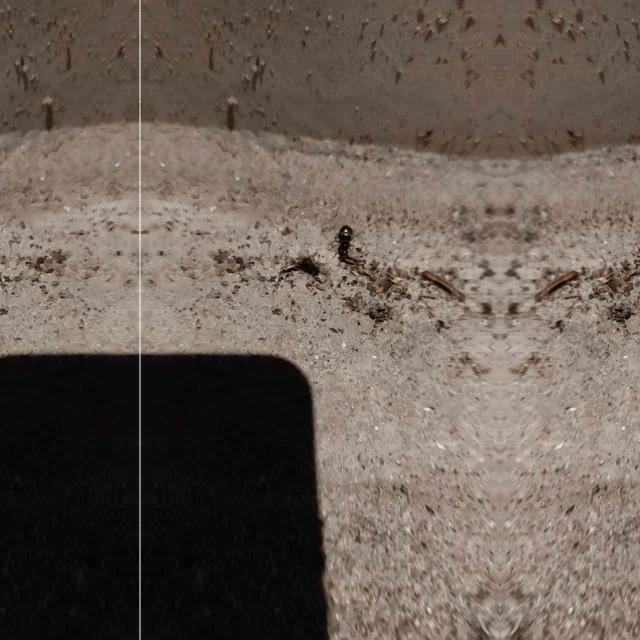Lasius: (331, 223, 359, 261)
